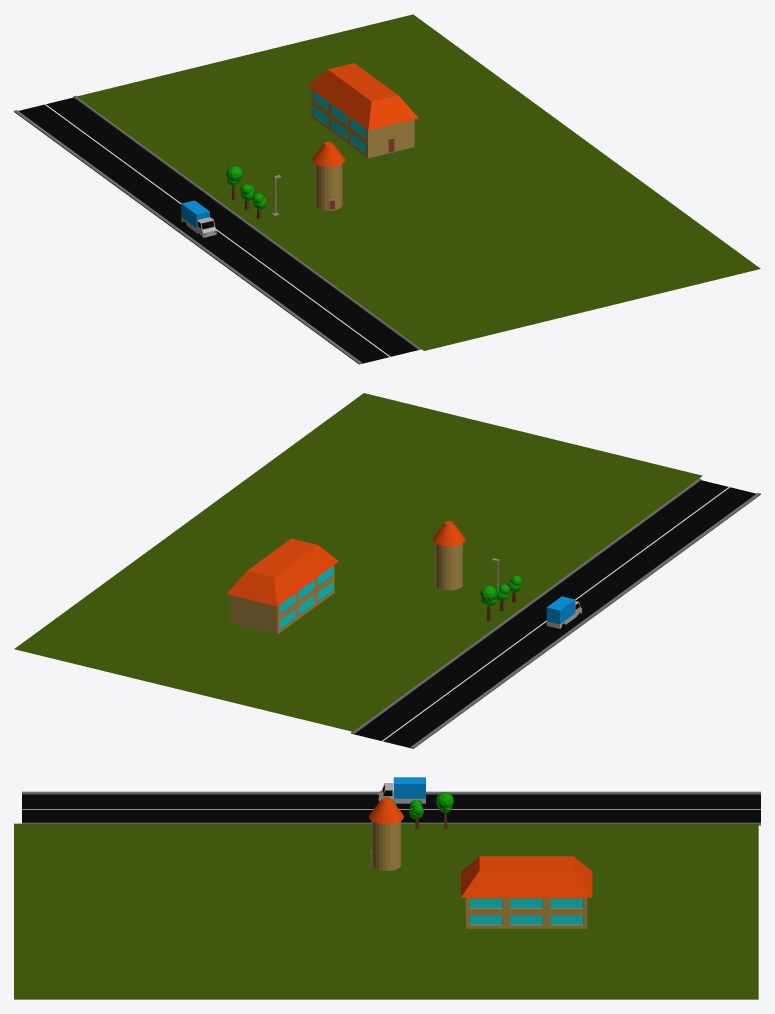
File: ludum55.glb
The picture shows the model from 3 angles, top to bottom: view 1: azimuth 30°, elevation 25°; view 2: azimuth 150°, elevation 25°; view 3: azimuth 270°, elevation 25°; orthographic projection. The views are drawn at different scales.
Parts seen in each view (by area): view 1: Plane.001, Plane, Cube.003, Cylinder, truckkun; view 2: Plane.001, Plane, Cube.003, Cylinder, truckkun; view 3: Plane.001, Plane, Cube.003, Cylinder, truckkun.
Part boxes in pixels (x1,y1,x2,y2): Plane.001: [76, 14, 760, 350]; Plane: [14, 95, 420, 364]; Cube.003: [307, 63, 418, 158]; Cylinder: [312, 141, 344, 210]; truckkun: [181, 200, 216, 237]; Plane.001: [14, 393, 702, 731]; Plane: [351, 478, 760, 748]; Cube.003: [226, 538, 338, 634]; Cylinder: [432, 521, 465, 590]; truckkun: [546, 596, 581, 629]; Plane.001: [14, 823, 758, 999]; Plane: [22, 791, 760, 825]; Cube.003: [461, 856, 592, 928]; Cylinder: [368, 797, 403, 870]; truckkun: [378, 777, 425, 803].
Bounding box in the file's own units: 134 × 20.42 × 204.
